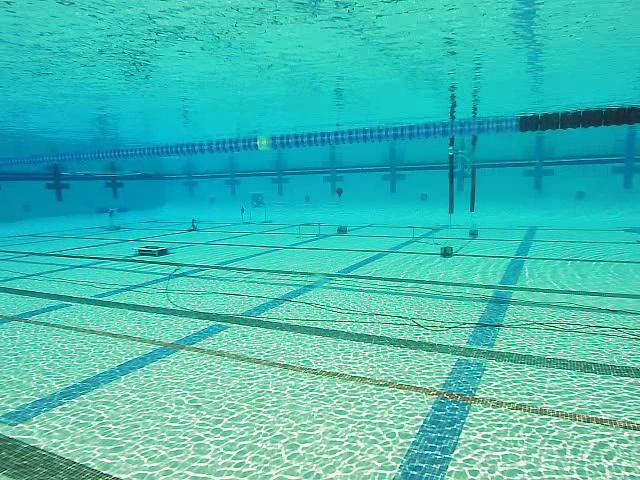dropper: (130, 243, 168, 258)
gate_leg_l: (448, 136, 454, 216)
gate_leg_r: (469, 166, 476, 212)
table: (96, 206, 128, 229)
torpedo: (249, 191, 265, 208)
